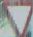Give way: (2, 0, 30, 35)
